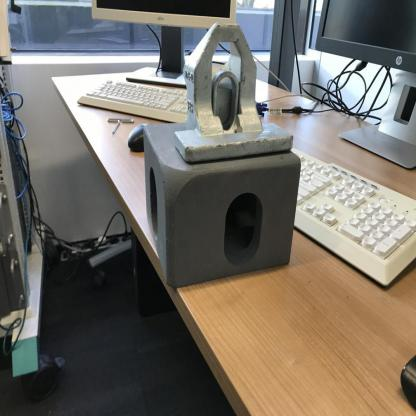CornerCasting: (136, 125, 307, 290)
Twistlock: (168, 20, 299, 165)
